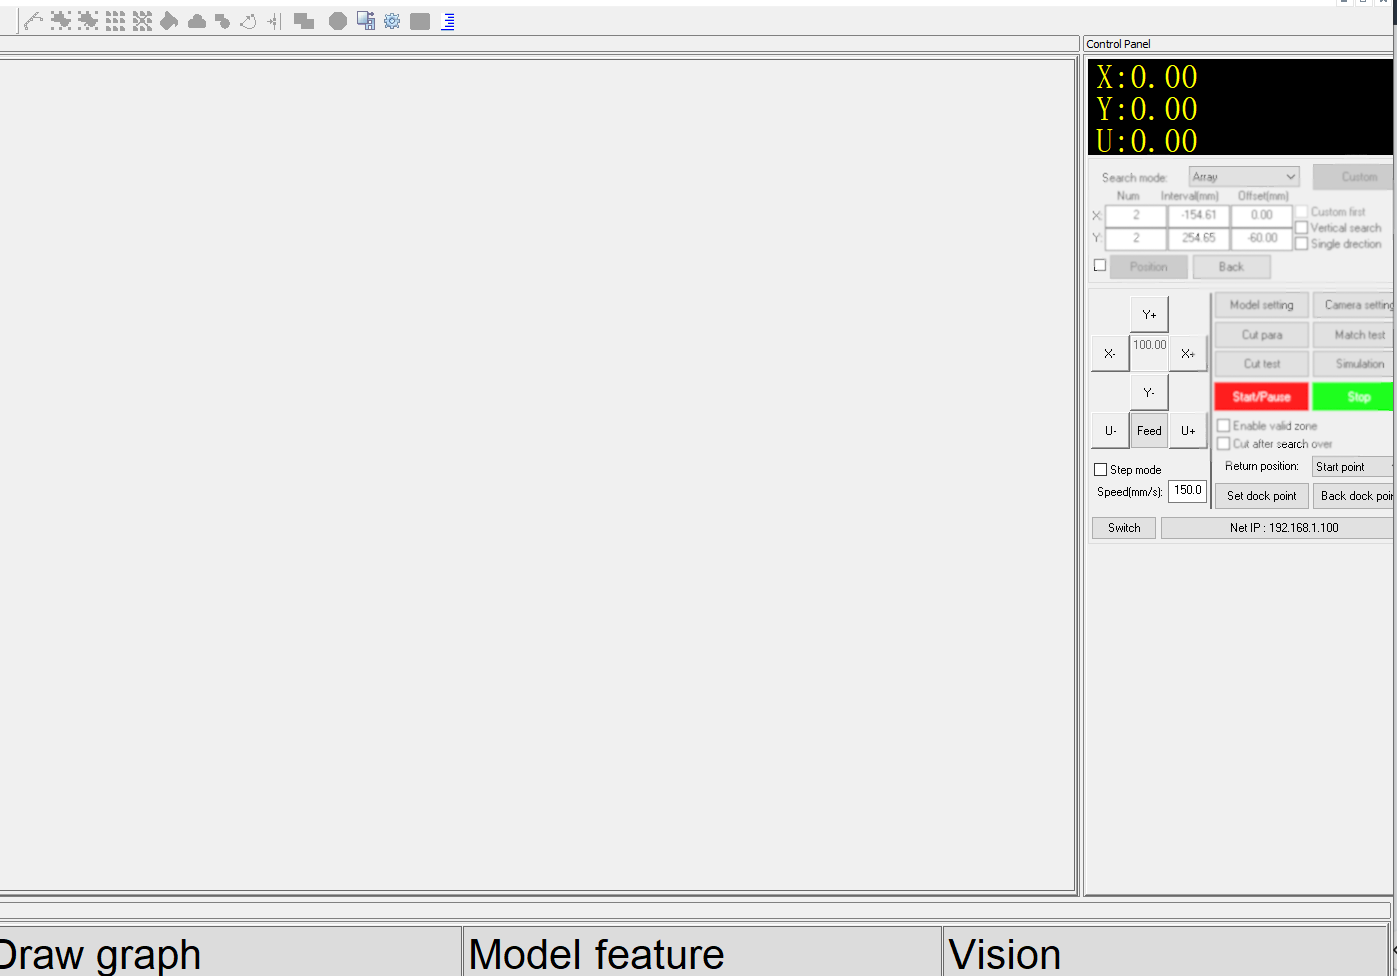start: (1212, 382, 1310, 413)
timer: (1228, 185, 1296, 249)
